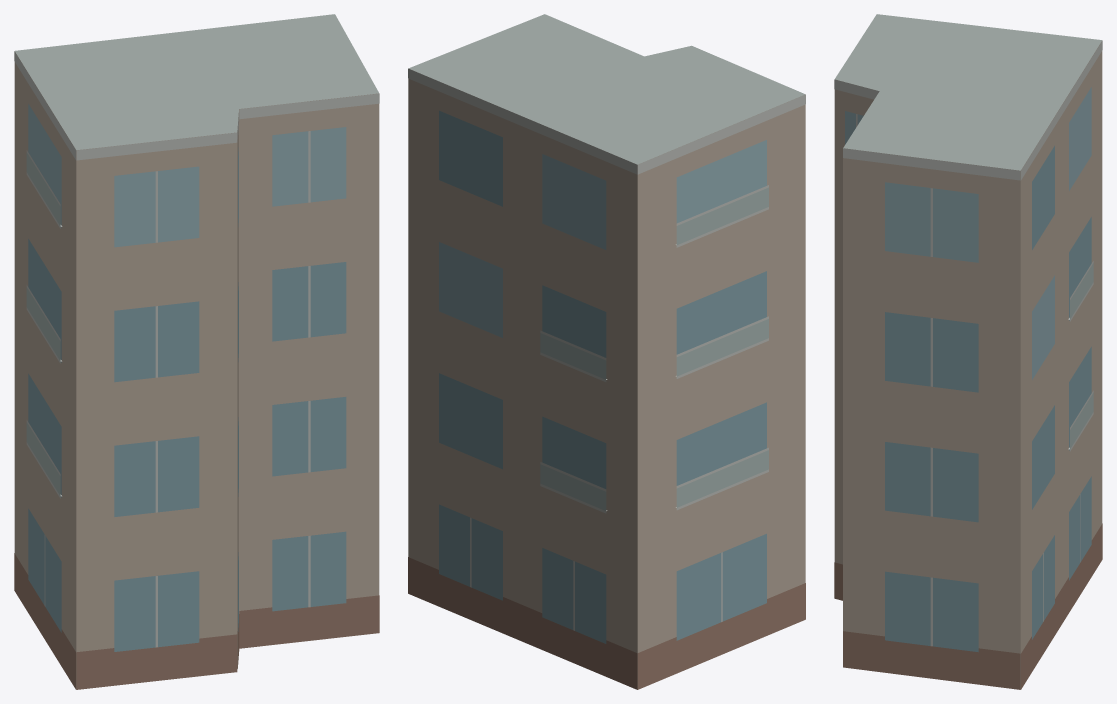
Rendered from survey-upis-32475583.glb.
3 renders of one model, left to right at view 1: azimuth 30°, elevation 25°; view 2: azimuth 150°, elevation 25°; view 3: azimuth 270°, elevation 25°, orthographic. The views are drawn at different scales.
Parts seen in each view (by area): view 1: survey-upis-32475583.tmp; view 2: survey-upis-32475583.tmp; view 3: survey-upis-32475583.tmp.
Boxes of the visible parts, box(x1,y1,x2,y2) form: survey-upis-32475583.tmp: box(14, 14, 379, 689); survey-upis-32475583.tmp: box(408, 14, 805, 689); survey-upis-32475583.tmp: box(834, 14, 1102, 689).
Bounding box in the file's own units: 8.29 × 12.8 × 6.
